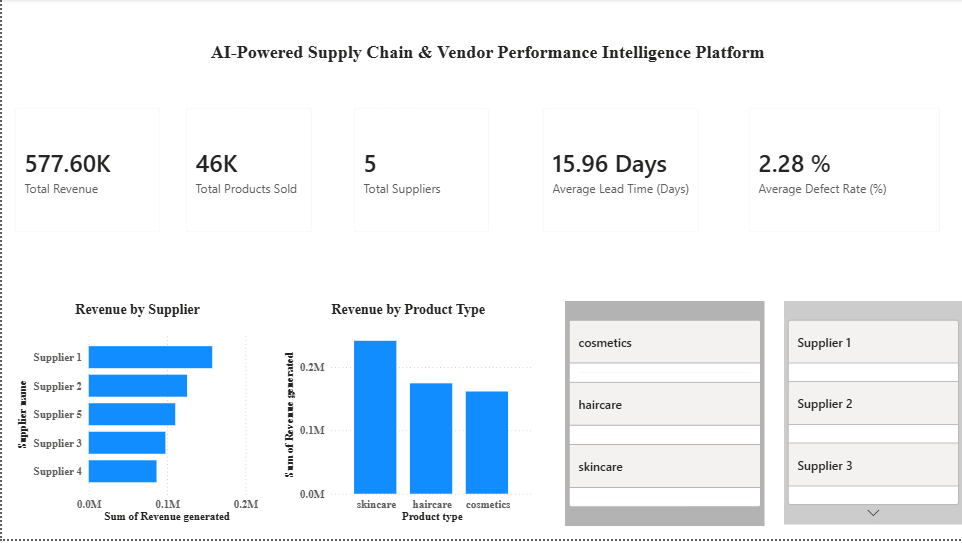

The dashboard page shown, as its layout file describes it:
{"tool":"powerbi","page":{"name":"Executive Overview","canvas":[1280,720],"ordinal":0},"visuals":[{"type":"cardVisual","fields":{"Data":["clean_products.Average Defect Rate (%)"]},"box":[978.7,128,289.3,200],"z":0},{"type":"cardVisual","fields":{"Data":["clean_products.Average Lead Time (Days)"]},"box":[704,128,242.7,200],"z":1000},{"type":"cardVisual","fields":{"Rows":["clean_products.Product type"],"Data":["Sum(clean_products.Revenue generated)"]},"box":[750,402,266,300],"z":2000},{"type":"cardVisual","fields":{"Rows":["clean_products.Supplier name"],"Data":["Sum(clean_products.Revenue generated)"]},"box":[1042,402,238,298],"z":3000},{"type":"textbox","box":[213.3,52.5,868.1,54.2],"z":4000},{"type":"cardVisual","fields":{"Data":["clean_products.Total Revenue"]},"box":[0,128,228,200],"z":5000},{"type":"cardVisual","fields":{"Data":["clean_products.Total Products Sold","clean_products.Total Products Sold"]},"box":[228,128,202,200],"z":6000},{"type":"cardVisual","fields":{"Data":["clean_products.Total Suppliers","clean_products.Total Suppliers"]},"box":[452,128,214,200],"z":7000},{"type":"clusteredColumnChart","title":"Revenue by Product Type","fields":{"Category":["clean_products.Product type"],"Y":["Sum(clean_products.Revenue generated)"]},"box":[370,402,342,300],"z":8000},{"type":"clusteredBarChart","title":"Revenue by Supplier","fields":{"Category":["clean_products.Supplier name"],"Y":["Sum(clean_products.Revenue generated)"]},"box":[14,402,332,300],"z":9000},{"type":"clusteredColumnChart","title":"Stock Levels by Product Type","fields":{"Category":["clean_products.Product type"],"Y":["Sum(clean_products.Stock levels)"]},"box":[12,744,334,300],"z":10000},{"type":"donutChart","title":"Transportation Mode Distribution","fields":{"Category":["clean_products.Transportation modes"],"Y":["CountNonNull(clean_products.SKU)"]},"box":[370,758,342,300],"z":11000}]}

Visuals, with their boxes in screenshot pixels (x1, y1, x2, y2), scaled from the page's 1280x720 canvas onto the 962x543 screenshot:
cardVisual - clean_products.Average Defect Rate (%): Rect(736, 97, 953, 247)
cardVisual - clean_products.Average Lead Time (Days): Rect(529, 97, 712, 247)
cardVisual - clean_products.Product type x Sum(clean_products.Revenue generated): Rect(564, 303, 764, 529)
cardVisual - clean_products.Supplier name x Sum(clean_products.Revenue generated): Rect(783, 303, 961, 528)
textbox: Rect(160, 40, 813, 80)
cardVisual - clean_products.Total Revenue: Rect(0, 97, 171, 247)
cardVisual - clean_products.Total Products Sold x clean_products.Total Products Sold: Rect(171, 97, 323, 247)
cardVisual - clean_products.Total Suppliers x clean_products.Total Suppliers: Rect(340, 97, 501, 247)
"Revenue by Product Type" clusteredColumnChart: Rect(278, 303, 535, 529)
"Revenue by Supplier" clusteredBarChart: Rect(11, 303, 260, 529)
